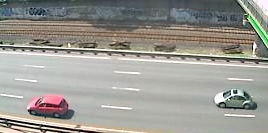car: (24, 93, 72, 119), (212, 87, 257, 111)
